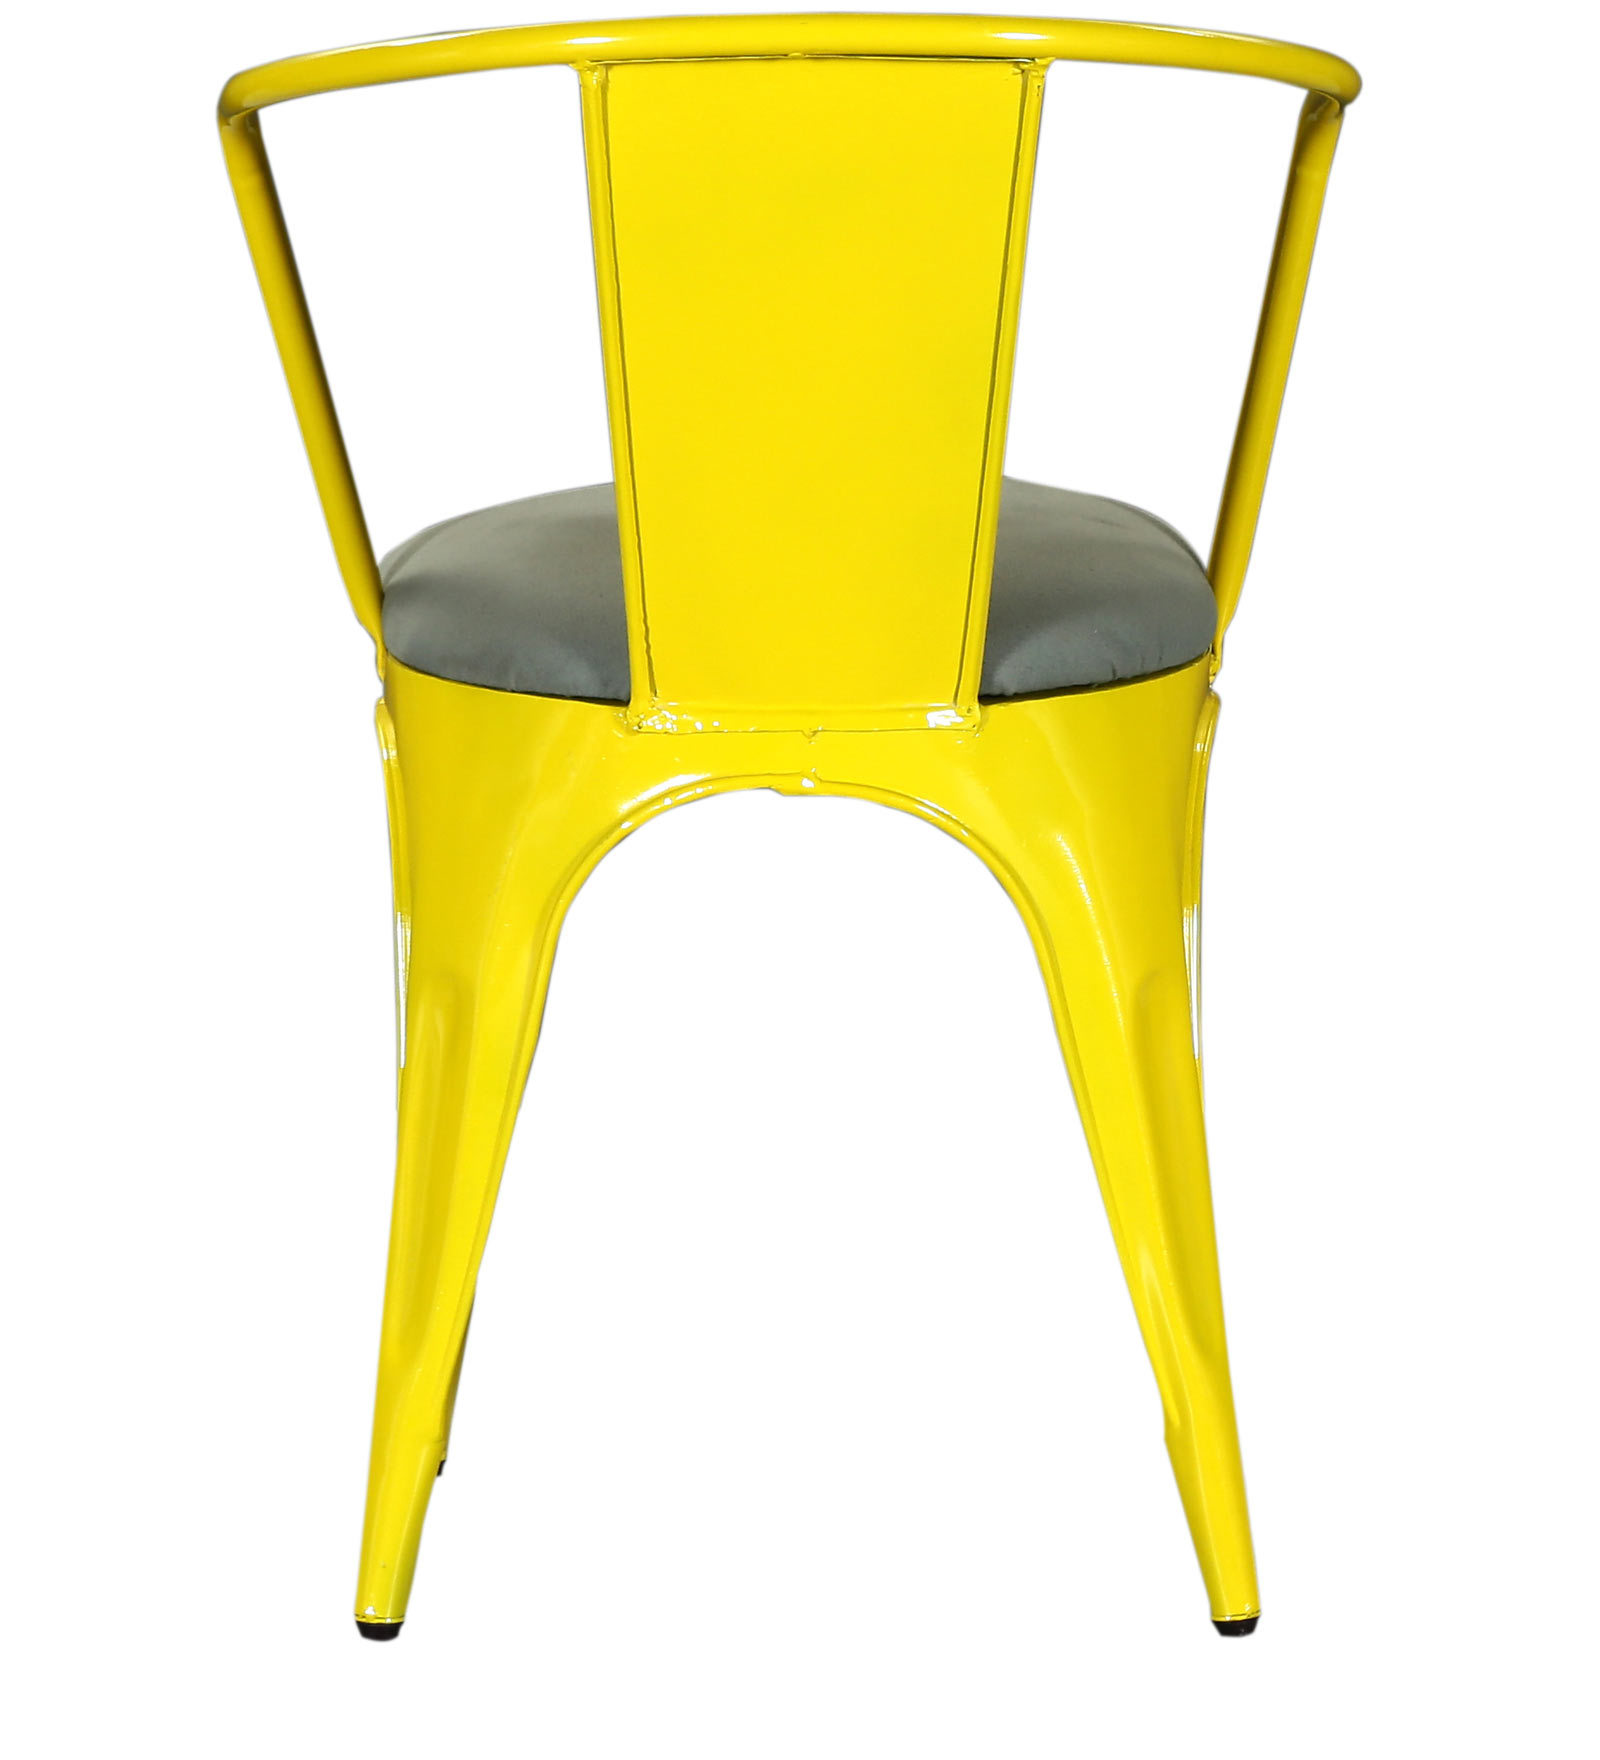Danlou Metal Chair with Cushion in Yellow Color by Bohemiana: (113, 9, 1390, 1709)
